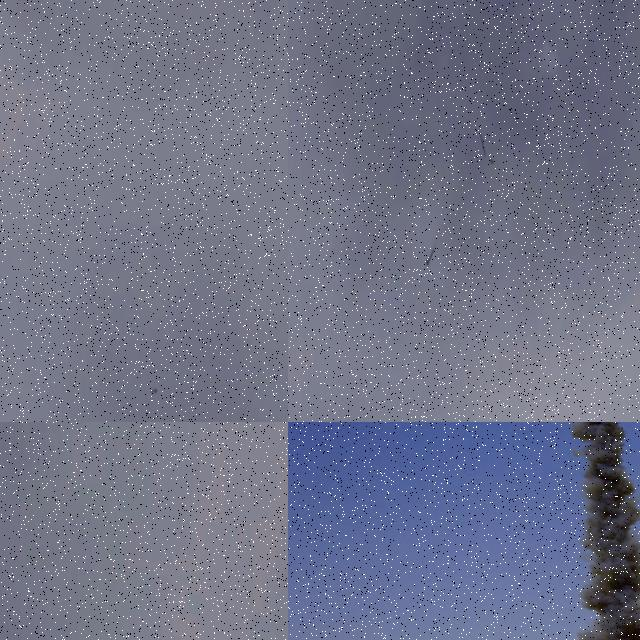Rocket: (426, 249, 434, 266), (150, 389, 158, 393)
